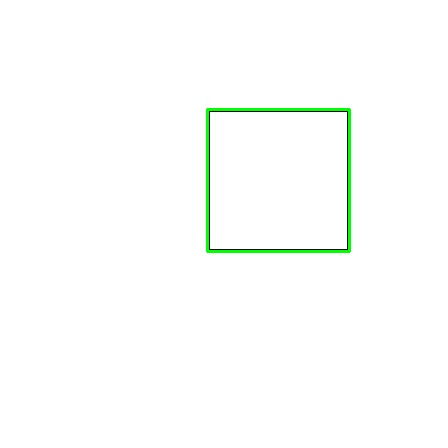line_segment: (206, 108, 351, 253)
